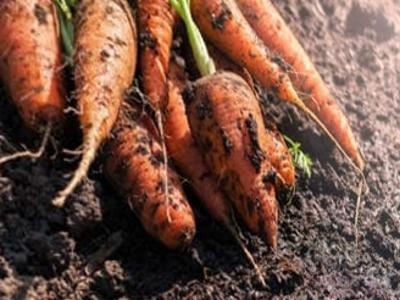carrot: (213, 0, 350, 232), (78, 1, 201, 240), (1, 0, 79, 143)
